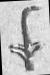M23: (3, 0, 48, 74)
